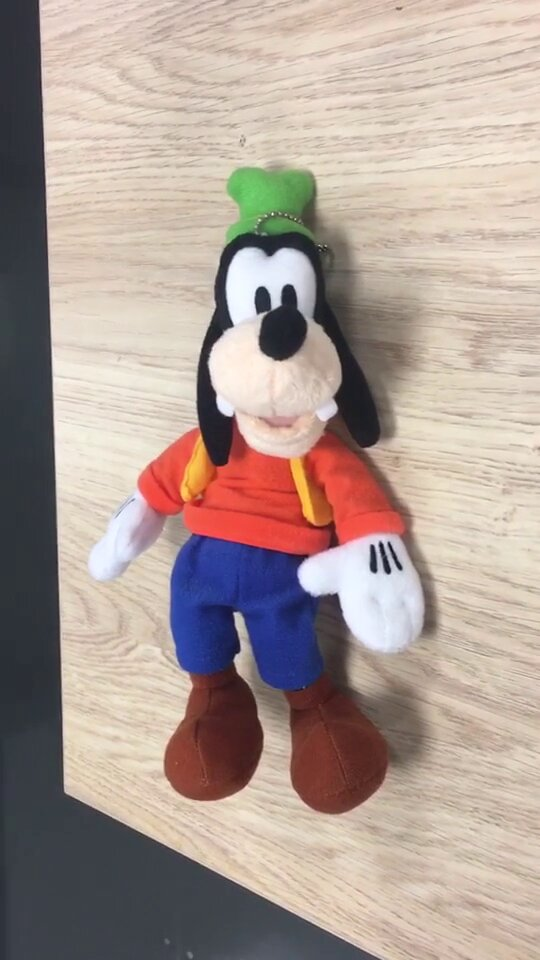goofy: (82, 158, 432, 818)
